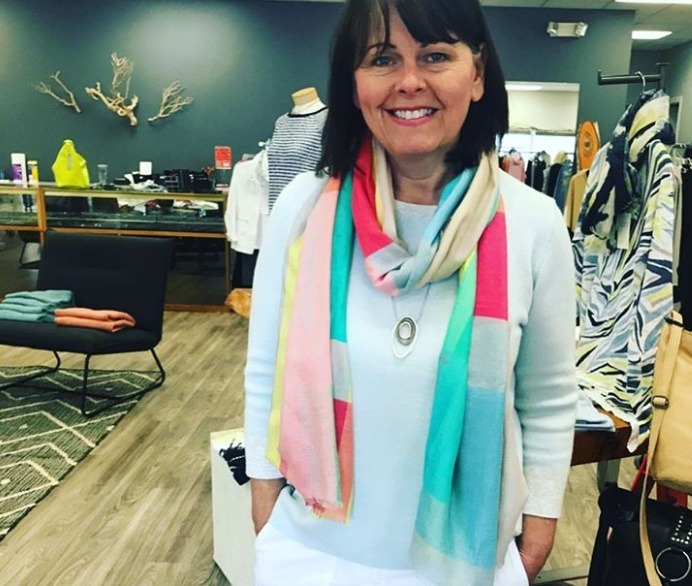mouth: (381, 104, 438, 125)
nose: (396, 79, 426, 95)
